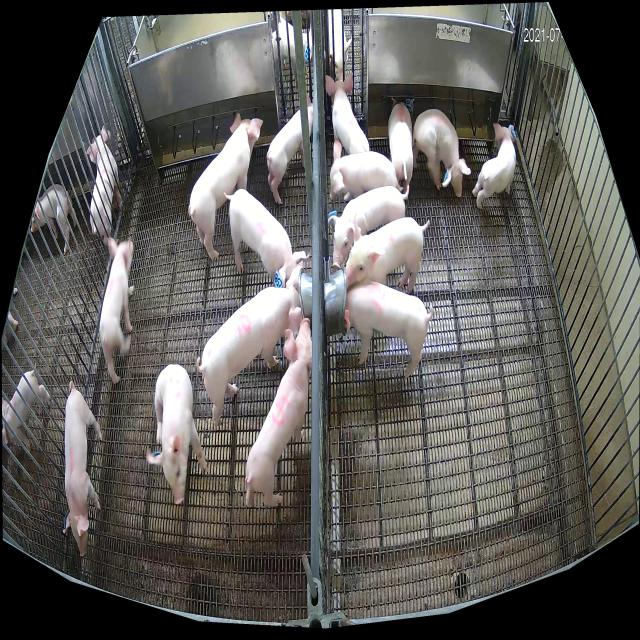pig: (196, 260, 303, 427), (245, 317, 312, 507), (188, 113, 263, 260), (145, 363, 208, 504), (344, 282, 433, 380), (224, 189, 309, 287), (62, 380, 102, 556), (328, 185, 410, 270), (346, 213, 431, 293), (412, 108, 471, 198), (267, 92, 314, 204), (100, 236, 134, 385), (330, 140, 403, 201), (472, 121, 516, 208), (325, 72, 369, 153), (388, 97, 415, 193)
